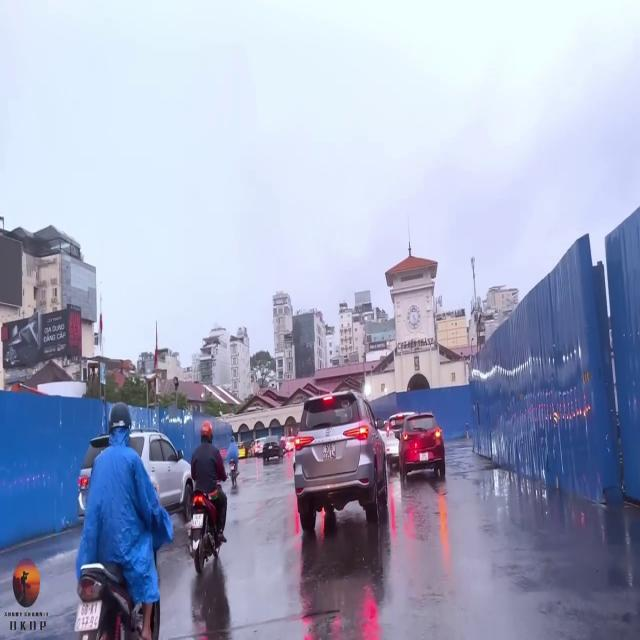bien_trang: (75, 601, 104, 634), (322, 440, 338, 461)
